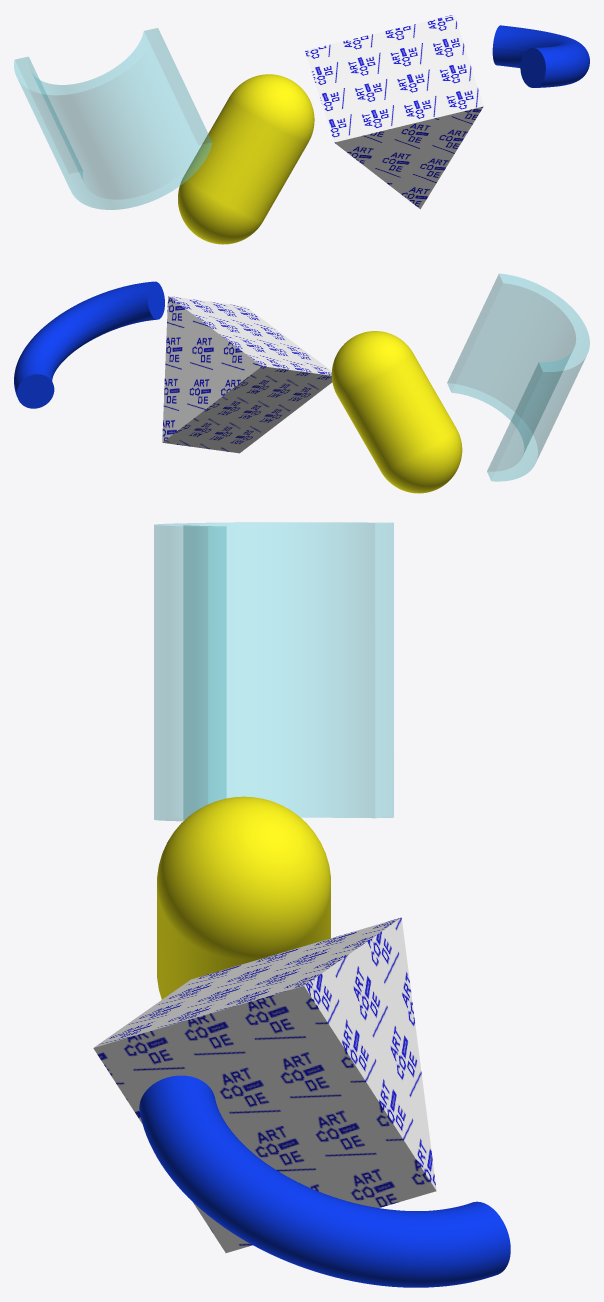
Rendered from modelsss.glb.
The picture shows the model from 3 angles, top to bottom: view 1: azimuth 30°, elevation 25°; view 2: azimuth 150°, elevation 25°; view 3: azimuth 270°, elevation 25°; orthographic projection. The views are drawn at different scales.
Visible parts, largest first — view 1: Prism, Half Pipe, Capsule, Torus 2; view 2: Prism, Half Pipe, Capsule, Torus 2; view 3: Half Pipe, Prism, Torus 2, Capsule.
Part boxes in pixels (left/top/right/bottom): Prism: left=305, top=14, right=483, bottom=209; Half Pipe: left=14, top=28, right=212, bottom=209; Capsule: left=178, top=74, right=314, bottom=244; Torus 2: left=492, top=25, right=589, bottom=87; Prism: left=162, top=296, right=332, bottom=453; Half Pipe: left=447, top=273, right=589, bottom=481; Capsule: left=331, top=331, right=462, bottom=493; Torus 2: left=14, top=281, right=164, bottom=408; Half Pipe: left=154, top=522, right=393, bottom=820; Prism: left=93, top=917, right=436, bottom=1252; Torus 2: left=139, top=1075, right=510, bottom=1287; Capsule: left=157, top=796, right=330, bottom=999.
Size of the model in its own units: 0.8411 by 0.3572 by 0.283.
4 materials, 1 textured.
